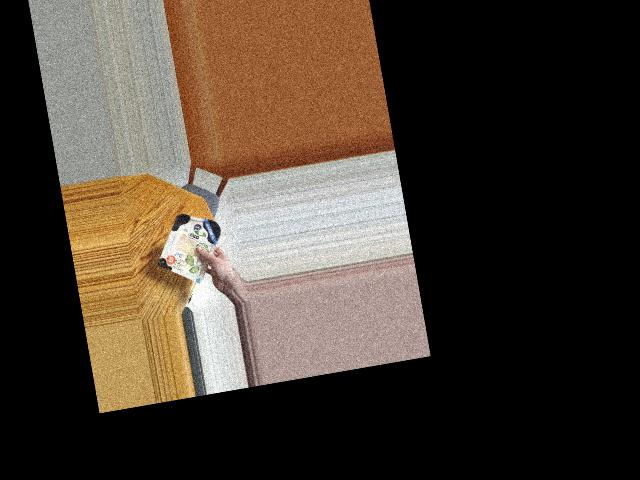cheese: (155, 202, 227, 279)
